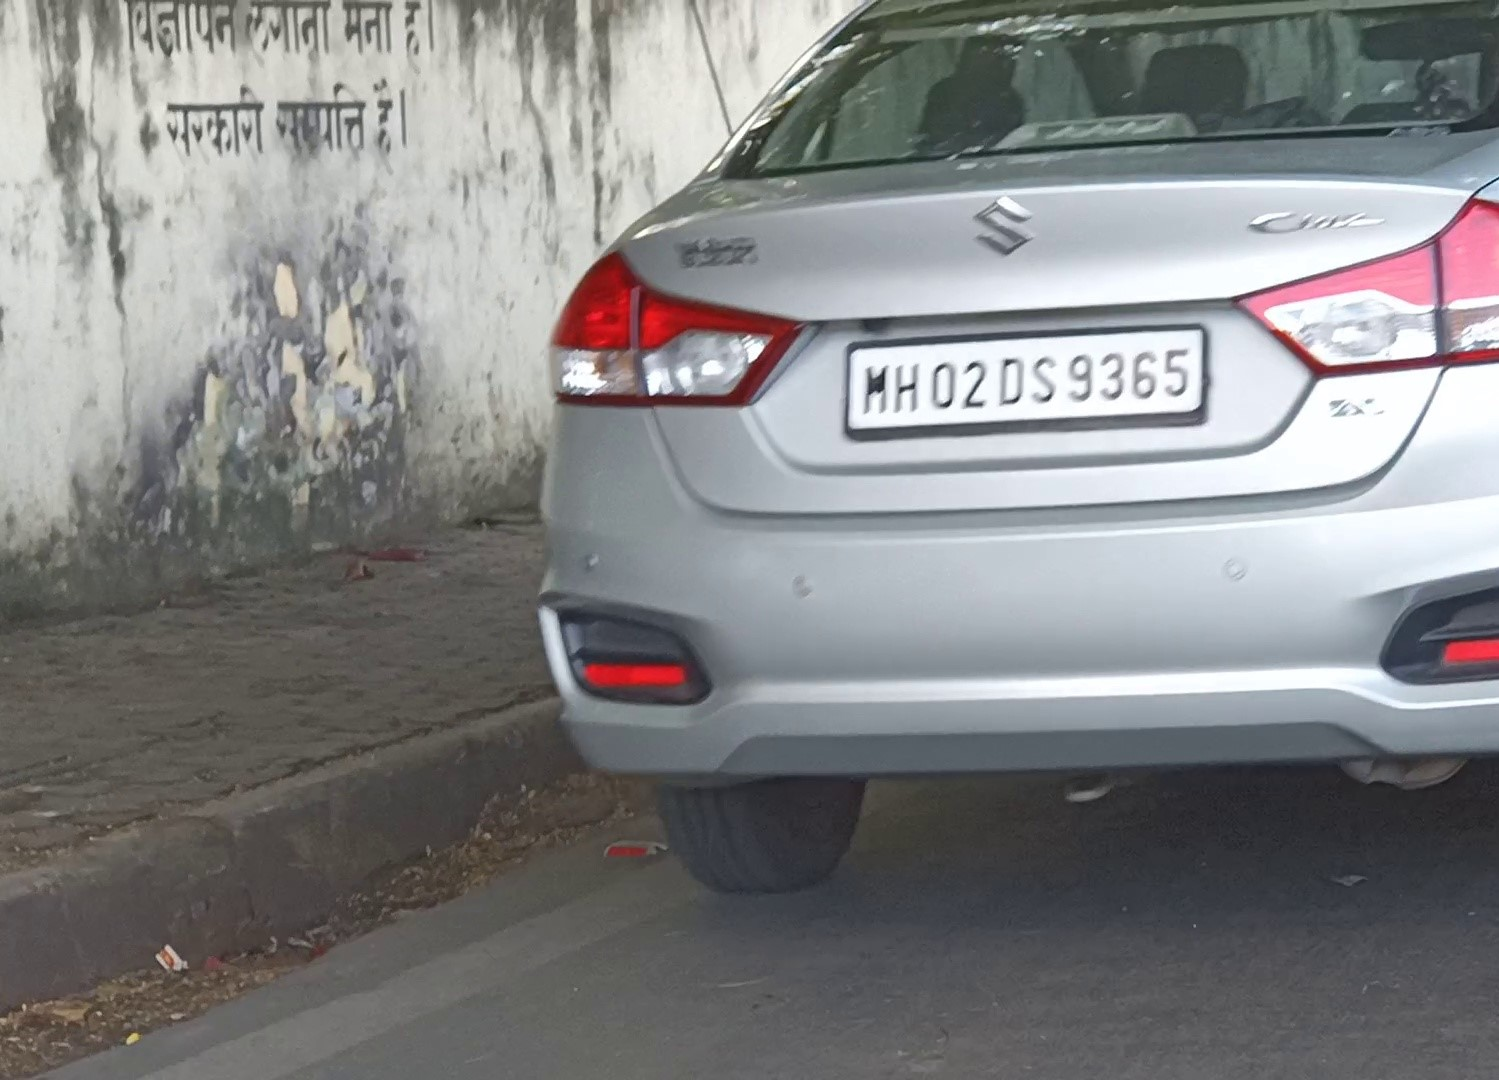MH02DS9365: (846, 331, 1205, 429)
